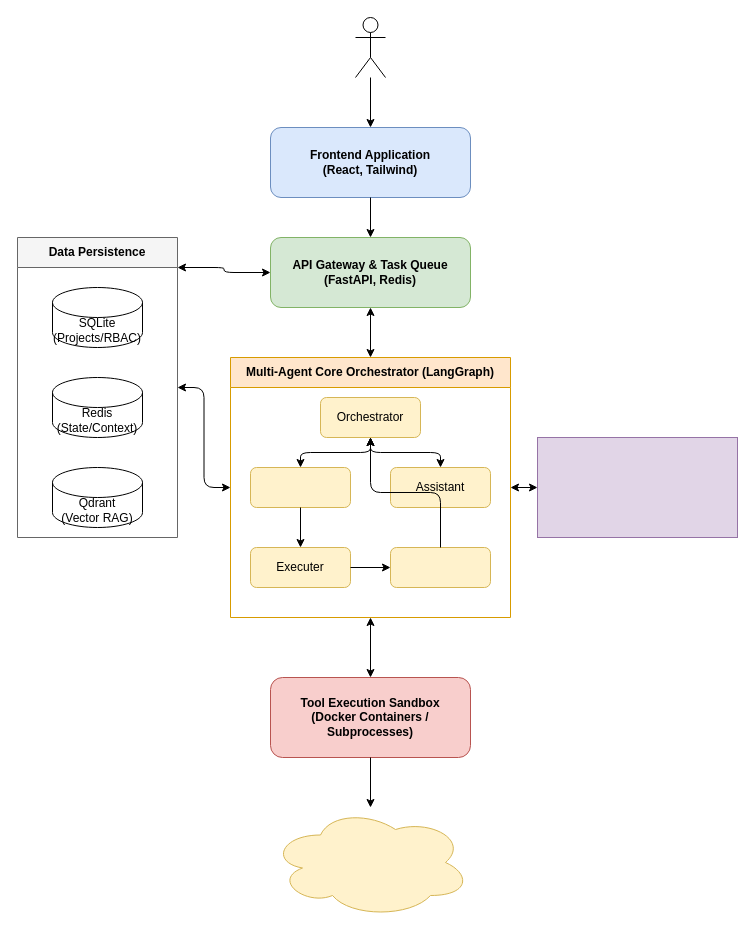
The diagram is 755 pixels wide and 935 high, and some of its shapes have lost their labels. The shapes that lost their labels are listed below. From the top down, each one's centre as x and y in pixels, then its label:
(370,47): Users (Pentester, Client)
(300,487): Planner
(637,487): LLM Gateway (Gemini, Qwen, Mistral)
(440,567): Analyzer
(370,862): Target Environment (Web / Network / Host)
